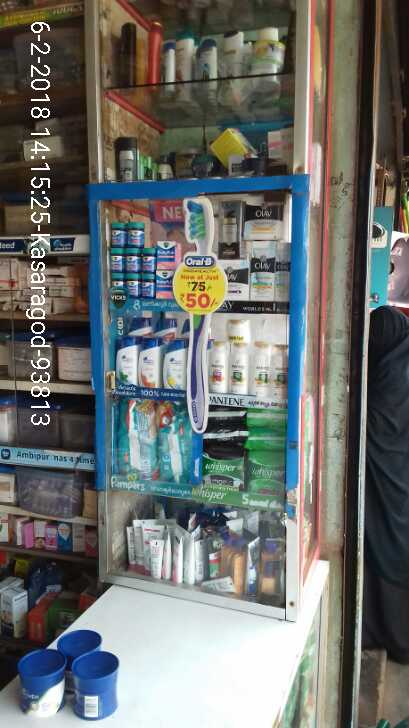vicks: (110, 221, 181, 302)
